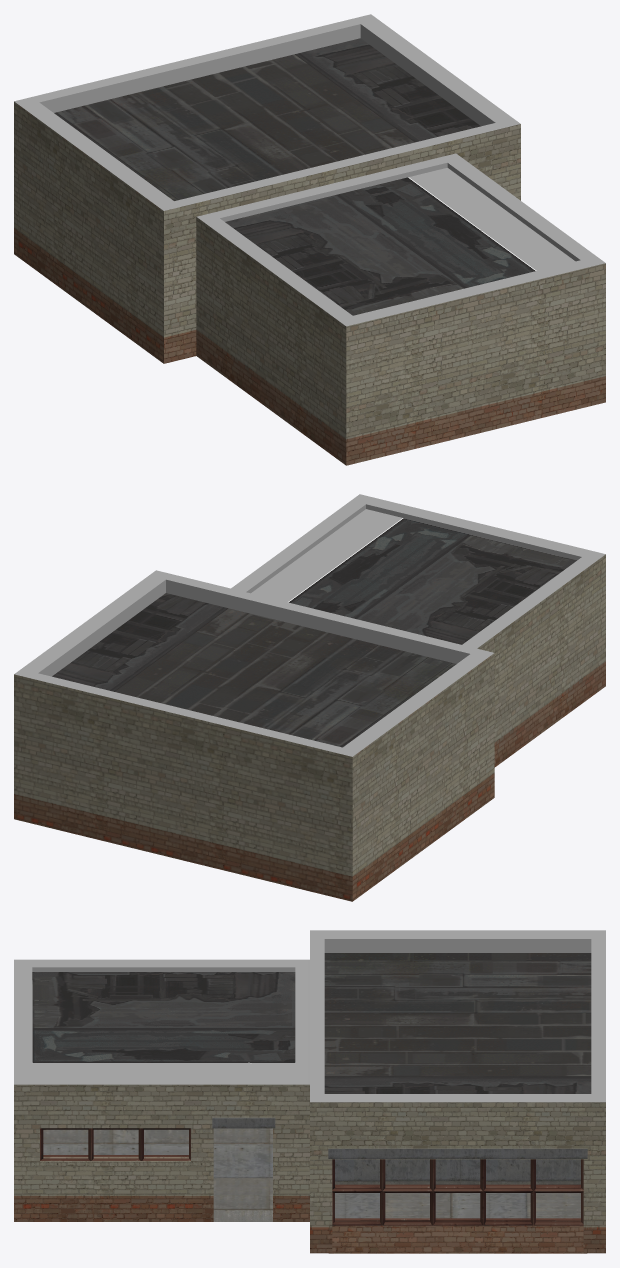
Rendered from bz_bgBuilding_01.fbx.
3 views of the same model, one above another, from view 1: azimuth 30°, elevation 25°; view 2: azimuth 150°, elevation 25°; view 3: azimuth 270°, elevation 25° (orthographic). The views are drawn at different scales.
Visible parts, largest first — view 1: bz_bgBuilding_01; view 2: bz_bgBuilding_01; view 3: bz_bgBuilding_01, bz_bgBuilding_01frame.
Part boxes in pixels (x1,y1,x2,y2): bz_bgBuilding_01: [14, 14, 605, 465]; bz_bgBuilding_01: [14, 494, 605, 901]; bz_bgBuilding_01: [14, 930, 605, 1253]; bz_bgBuilding_01frame: [40, 1128, 583, 1225].
Size of the model in its own units: 11.02 by 4.5 by 16.
